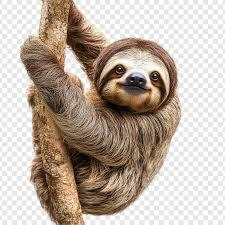non-mango: (19, 0, 182, 224)
